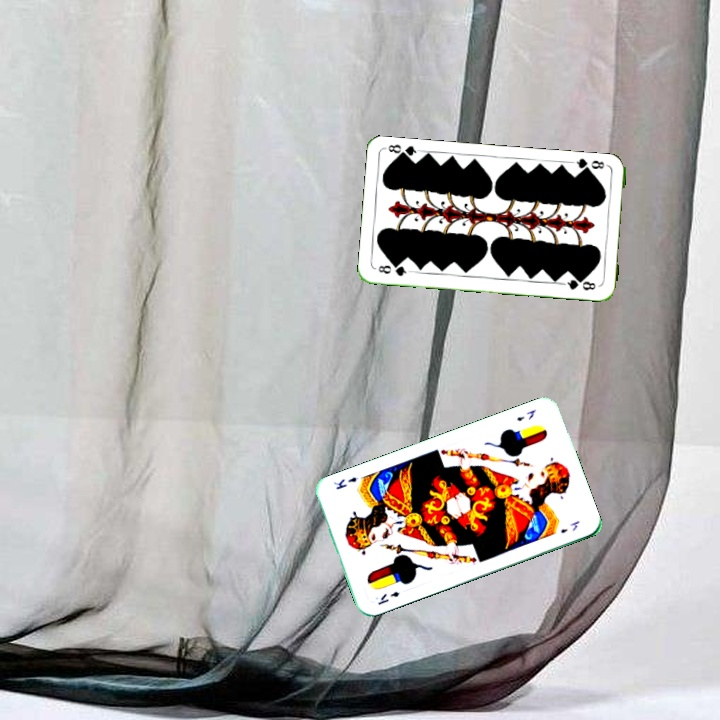EK: (374, 587, 402, 608), (512, 406, 539, 424)
G8: (570, 154, 607, 175), (374, 261, 413, 279)
